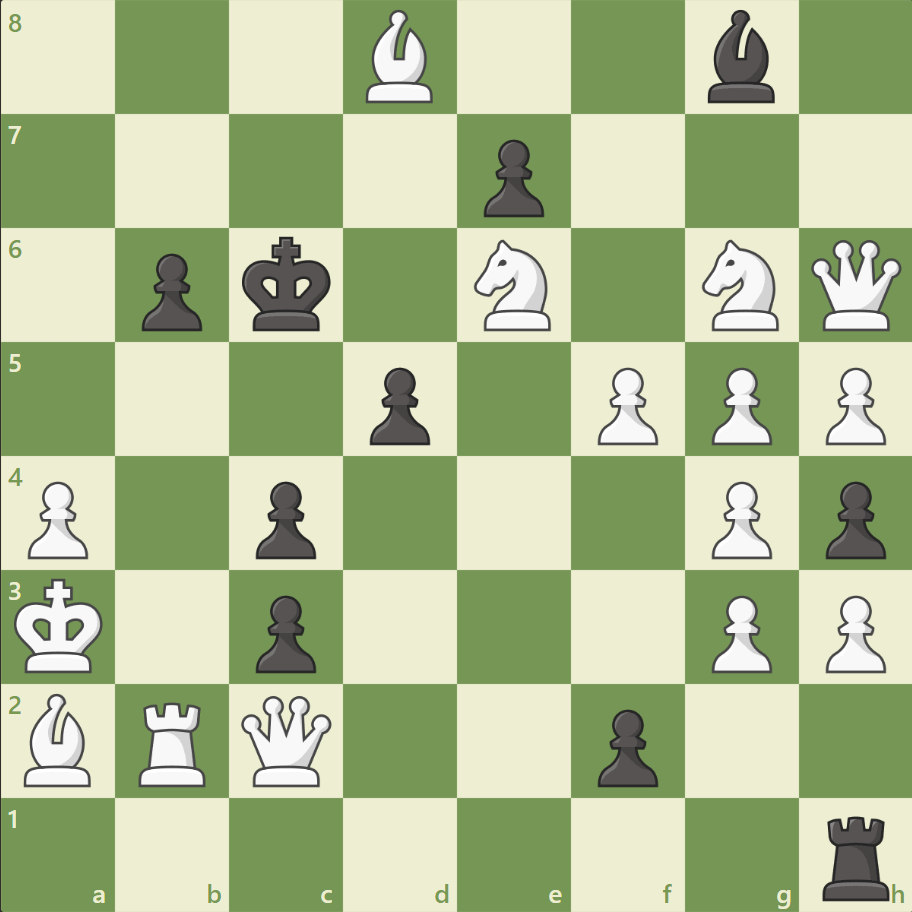B: (358, 6, 442, 109), (17, 687, 101, 790)
K: (11, 571, 111, 679)
N: (465, 234, 562, 337), (692, 234, 789, 337)
P: (701, 359, 776, 450), (20, 473, 95, 564), (701, 473, 776, 564), (701, 586, 776, 677), (588, 359, 662, 450), (815, 359, 889, 450), (815, 586, 889, 677)
Q: (805, 236, 904, 335), (237, 690, 336, 789)
R: (133, 693, 215, 790)
b: (698, 6, 782, 109)
k: (238, 231, 338, 339)
p: (474, 132, 549, 223), (133, 246, 208, 337), (247, 473, 322, 564), (247, 586, 322, 677), (361, 359, 435, 450), (815, 473, 889, 564), (588, 700, 662, 791)
r: (814, 806, 897, 904)
